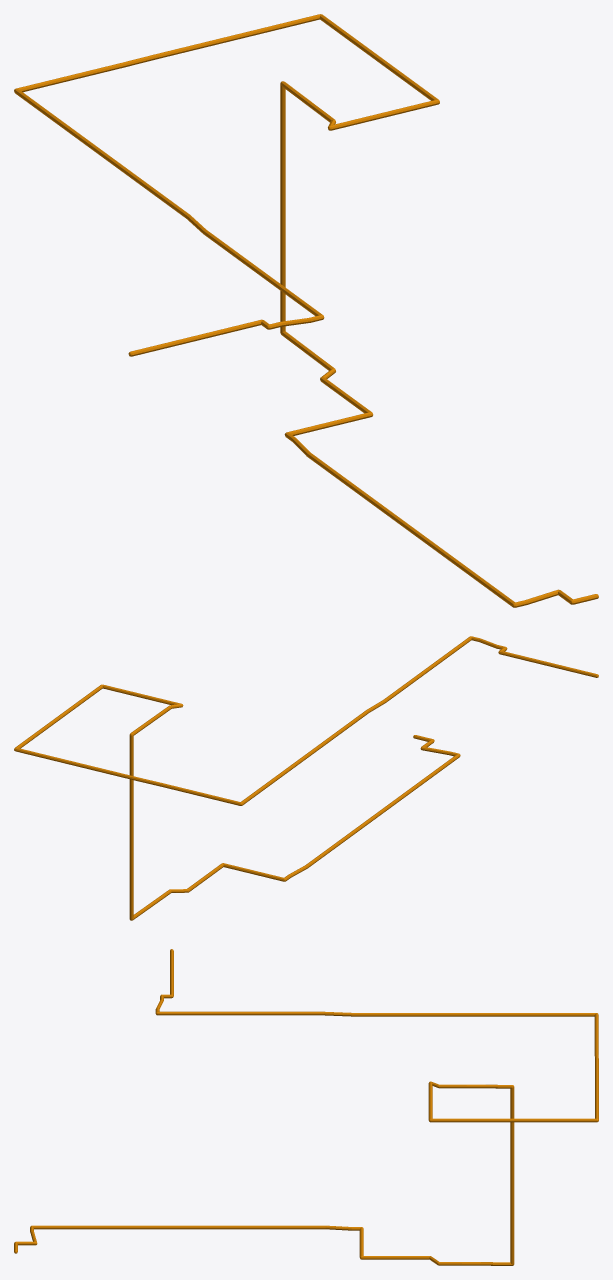
3 views of the same model, one above another, from view 1: azimuth 30°, elevation 25°; view 2: azimuth 150°, elevation 25°; view 3: azimuth 270°, elevation 25° (orthographic). The views are drawn at different scales.
Bounding box in the file's own units: 2071 × 1020 × 2989.
